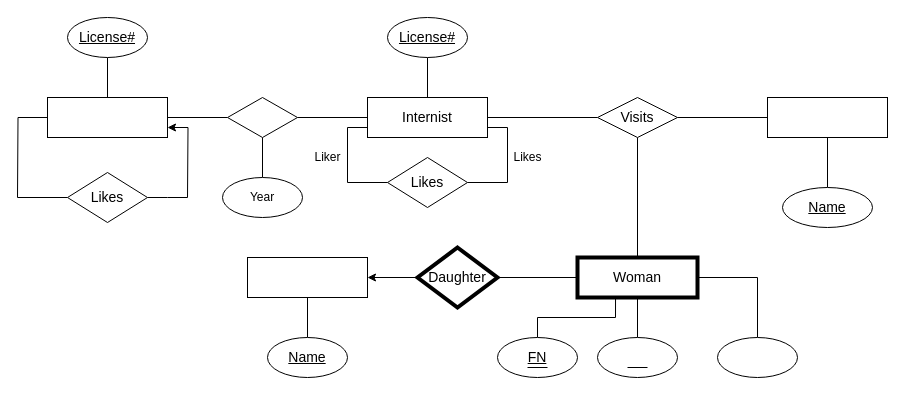
Image size: 905x396. Some labels were removed from this diagram. Each missing label, with the box of its shape:
Admires: (226, 96, 298, 138)
DOB: (716, 336, 798, 378)
Location: (766, 96, 888, 138)
Man: (246, 256, 368, 298)
MI: (596, 336, 678, 378)
Surgeon: (46, 96, 168, 138)
